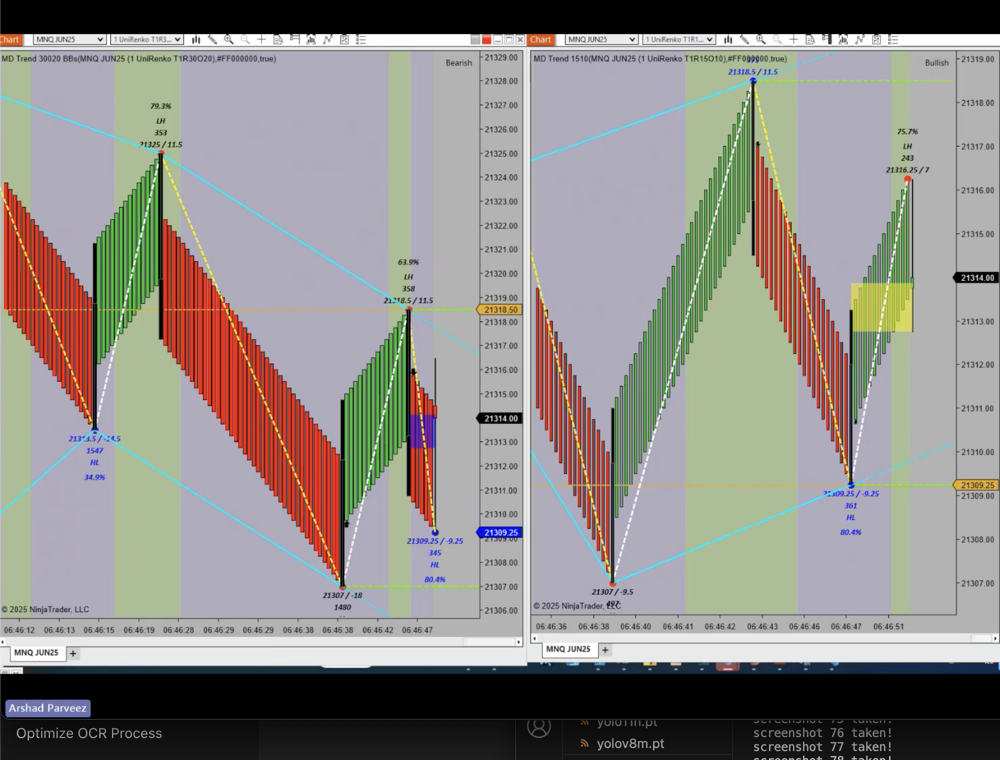HL: (422, 556, 448, 575), (841, 506, 863, 526), (86, 453, 107, 471)
LH: (900, 138, 920, 157), (149, 113, 173, 127), (396, 275, 427, 285)
